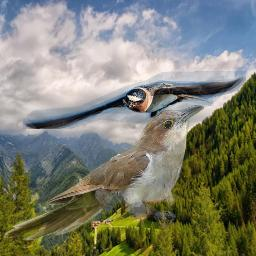Cuckoo: (2, 104, 204, 240)
Swallow: (23, 71, 246, 129)
